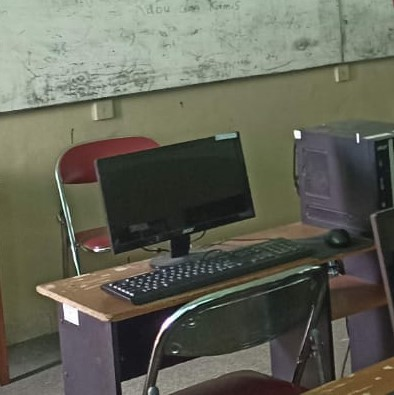monitor: (1, 1, 393, 115), (94, 131, 256, 256)
